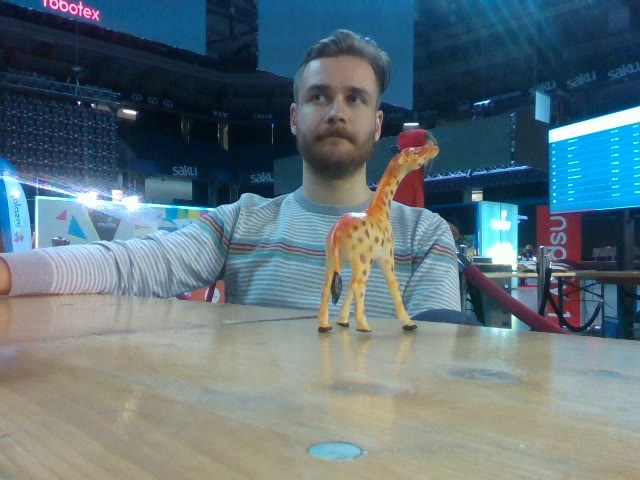toy: (318, 141, 438, 333)
